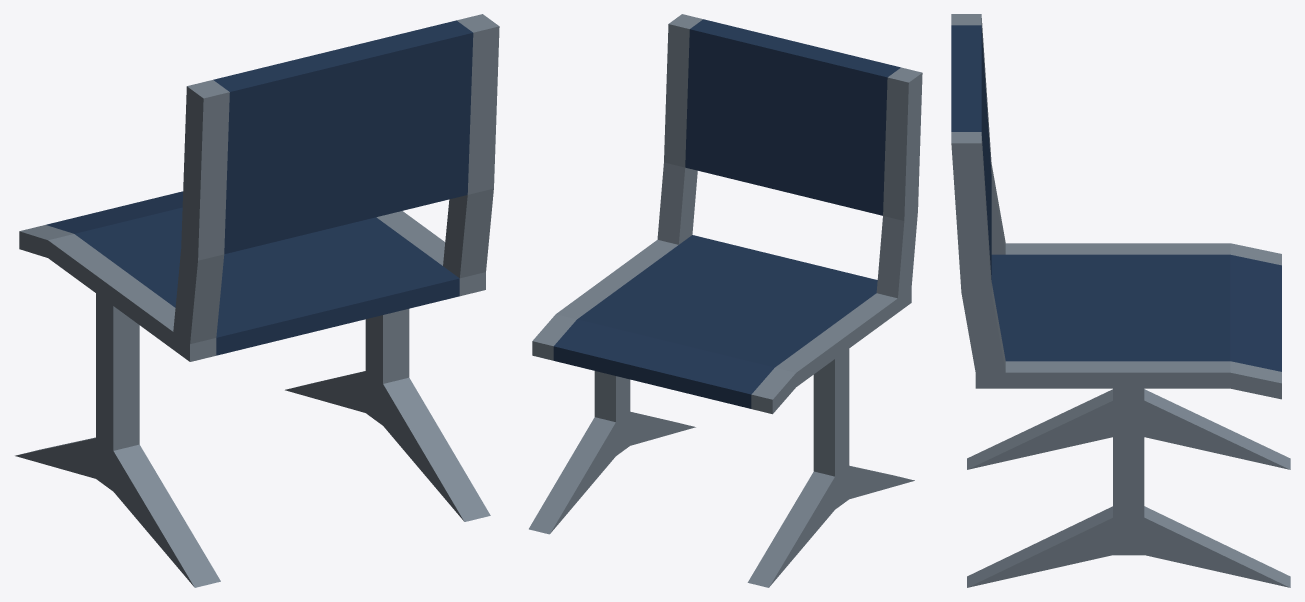
File: worker-chair.fbx
3 views of the same model, side by side, from view 1: azimuth 30°, elevation 25°; view 2: azimuth 150°, elevation 25°; view 3: azimuth 270°, elevation 25° (orthographic). The views are drawn at different scales.
Visible parts, largest first — view 1: Cube; view 2: Cube; view 3: Cube.
Part boxes in pixels (x1=…): Cube: x1=15, y1=14, x2=499, y2=587; Cube: x1=529, y1=14, x2=922, y2=587; Cube: x1=951, y1=14, x2=1290, y2=587.
Size of the model in its own units: 51.26 by 82.07 by 56.76.
Materials: 1 (1 with a texture image).
